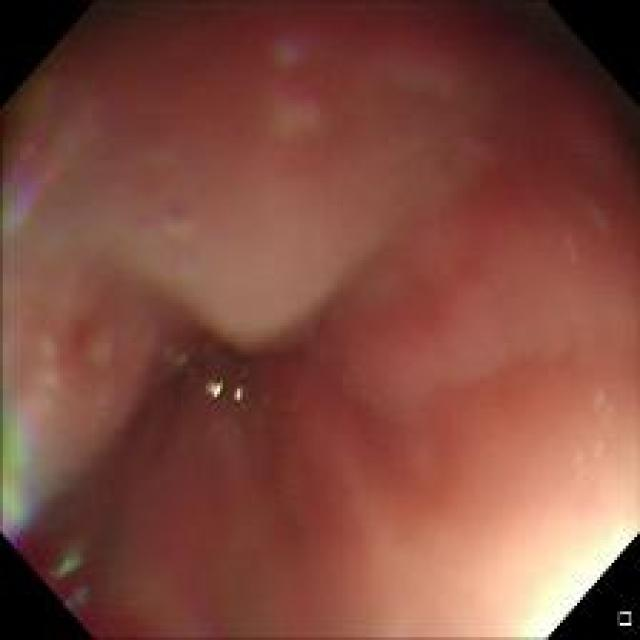blur: (22, 20, 626, 622)
color misalignment: (10, 82, 115, 552), (262, 29, 334, 144), (564, 385, 626, 480), (46, 548, 96, 616), (204, 378, 250, 406)
specularity: (211, 382, 224, 398), (232, 386, 242, 400)
